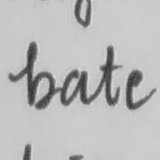a: (59, 64, 91, 109)
b: (21, 39, 57, 111)
c: (123, 67, 157, 112)
t: (95, 40, 122, 107)
